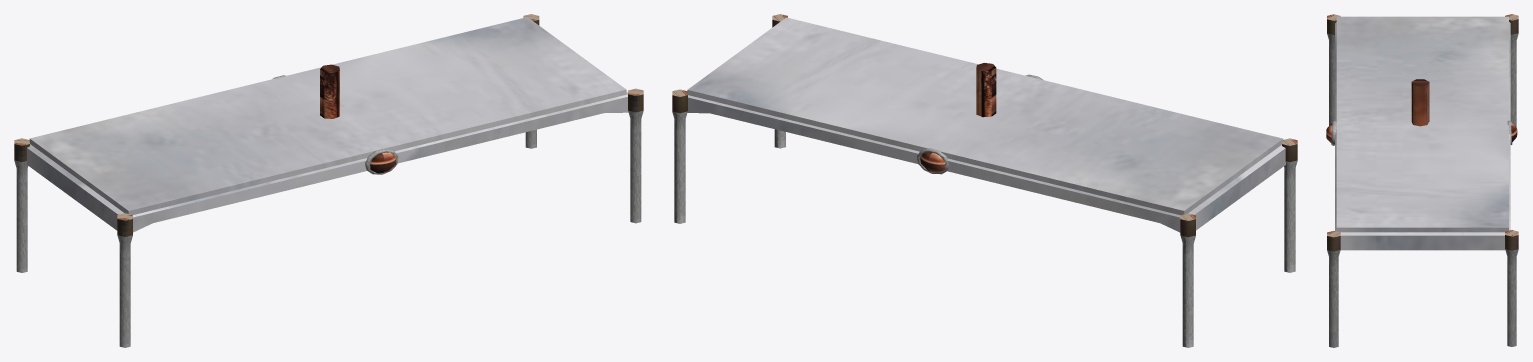
File: stolika.glb
The picture shows the model from 3 angles, left to right: view 1: azimuth 30°, elevation 25°; view 2: azimuth 150°, elevation 25°; view 3: azimuth 270°, elevation 25°; orthographic projection. The views are drawn at different scales.
Visible parts, largest first — view 1: Box001, Cylinder001, Cylinder002, Cylinder004, Cylinder005; view 2: Box001, Cylinder003, Cylinder004, Cylinder001, Cylinder005; view 3: Box001, Cylinder002, Cylinder003, Cylinder005, Cylinder004, Cylinder001.
Part boxes in pixels (box(x1,y1,x2,y2)): Box001: box(26, 17, 628, 232); Cylinder001: box(117, 213, 132, 347); Cylinder002: box(628, 88, 643, 223); Cylinder004: box(14, 138, 29, 272); Cylinder005: box(320, 64, 339, 118); Box001: box(687, 17, 1285, 232); Cylinder003: box(672, 89, 687, 223); Cylinder004: box(1180, 213, 1195, 347); Cylinder001: box(1282, 138, 1297, 272); Cylinder005: box(976, 63, 996, 117); Box001: box(1335, 16, 1510, 250); Cylinder002: box(1327, 231, 1340, 347); Cylinder003: box(1505, 230, 1518, 346); Cylinder005: box(1411, 79, 1429, 126); Cylinder004: box(1505, 14, 1518, 126); Cylinder001: box(1327, 14, 1340, 125).
Bounding box in the file's own units: 1.54 × 0.4974 × 0.5623.
4 materials, 4 textured.
